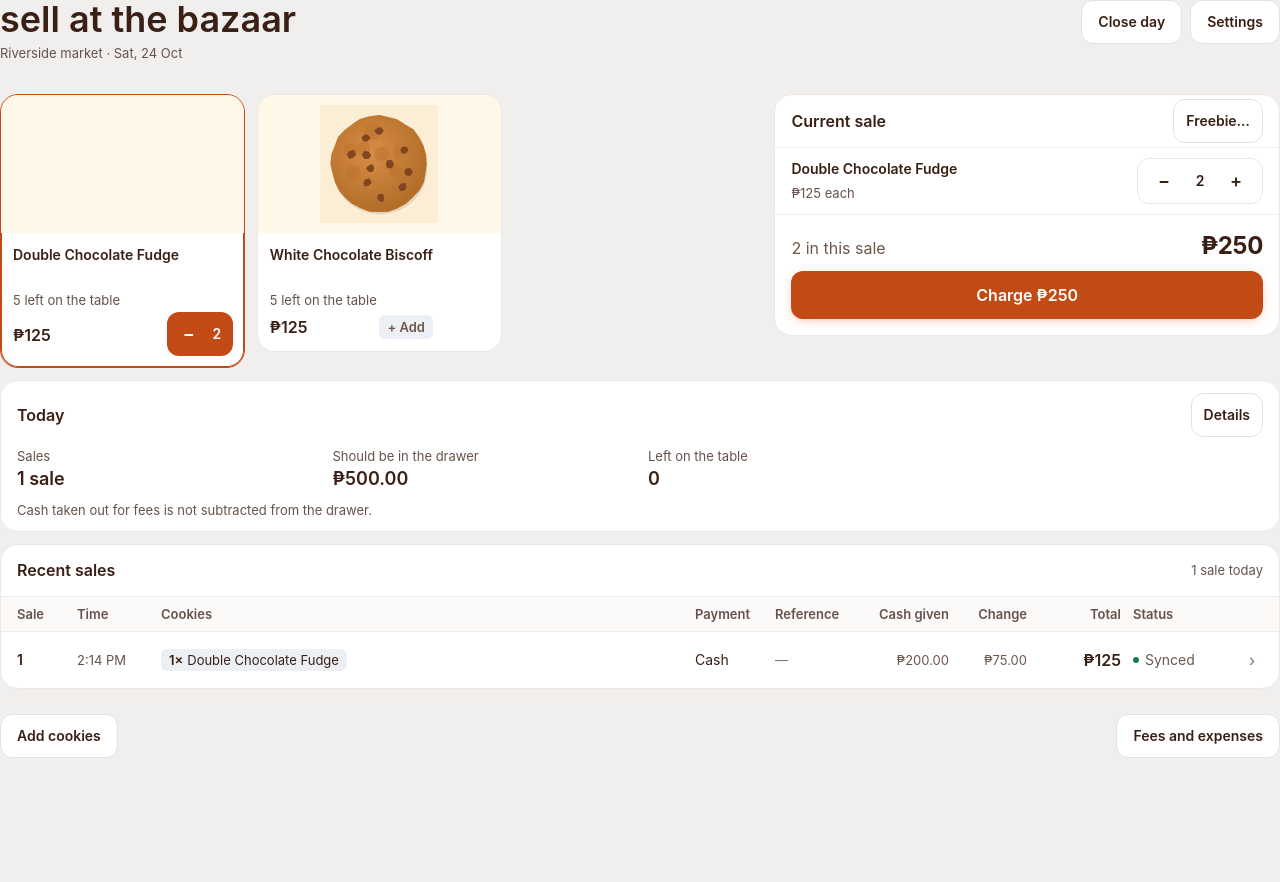
Scenario: the consolidated till calls the ported handlers › a helper without the totals switch sees the drawer but no takings or target
The width and height of the screenshot is (1280, 882).
Click the button "Details" at (1227, 415), box 1190,393 -> 1263,437
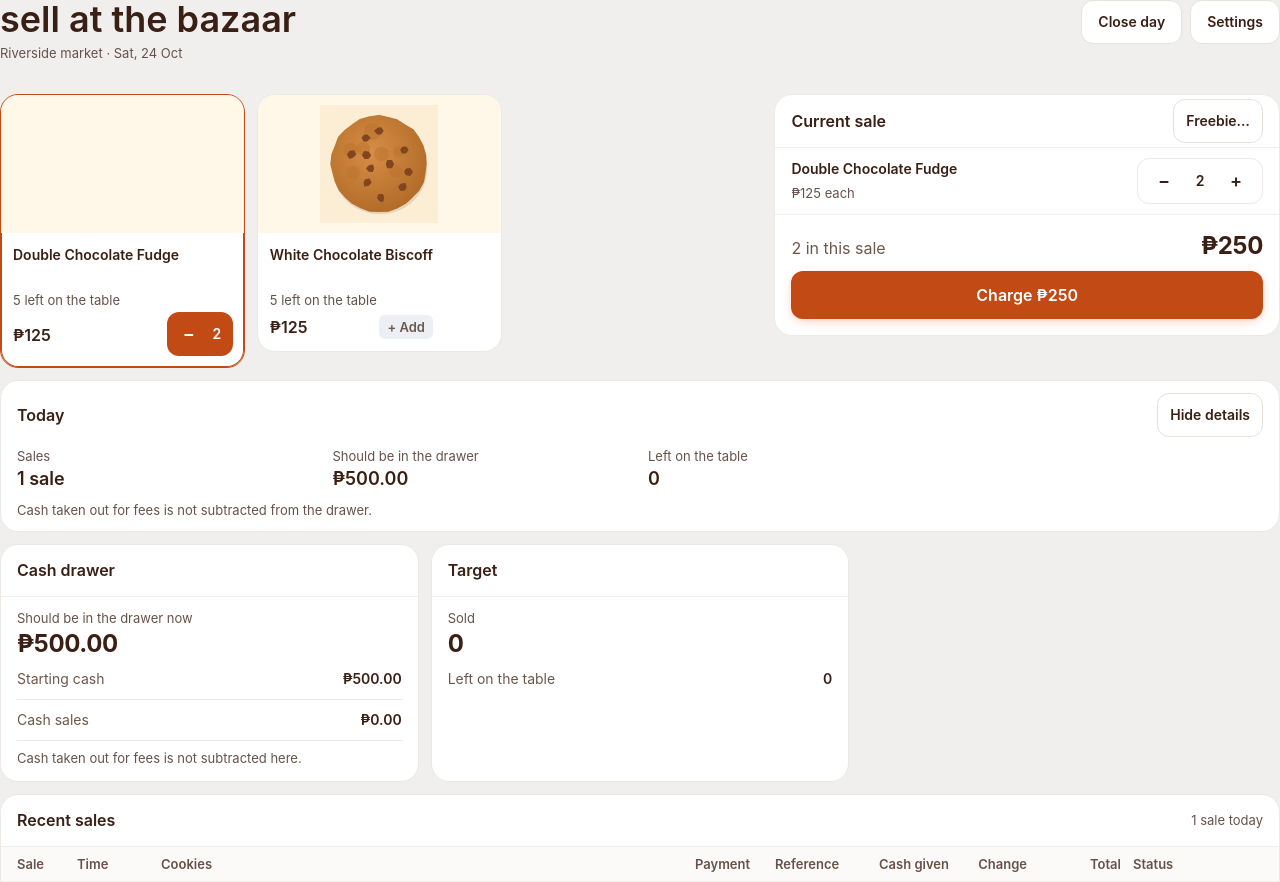
Now the element "Cash drawer" is shown, box 0,544 -> 419,782
